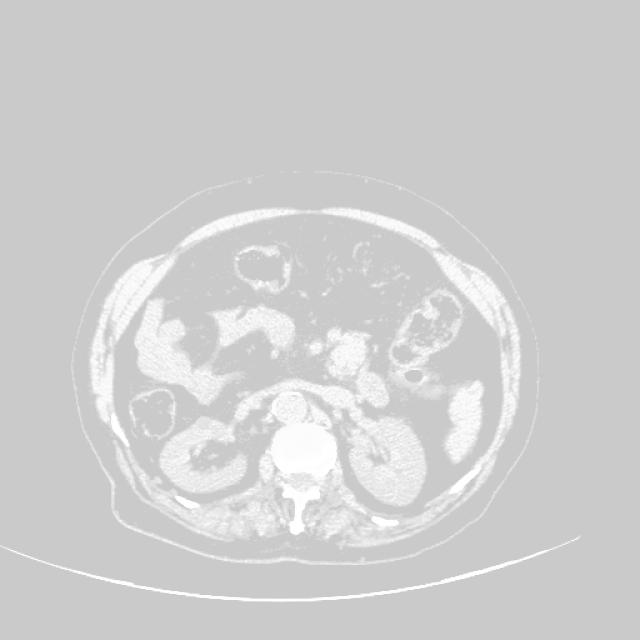cysts: (79, 184, 533, 564)
